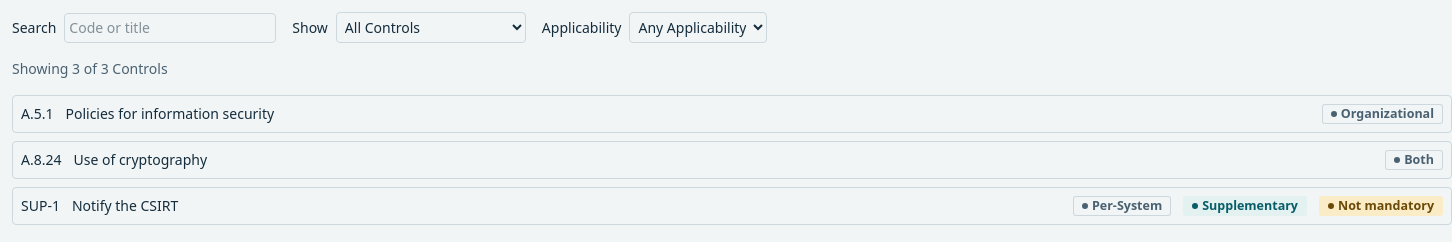
Test case: ControlLibrary (#169) › filters by origin and by Applicability
Select "Supplementary Controls" in the dropdown named "Origin filter": (431, 28) [336,12,526,43]
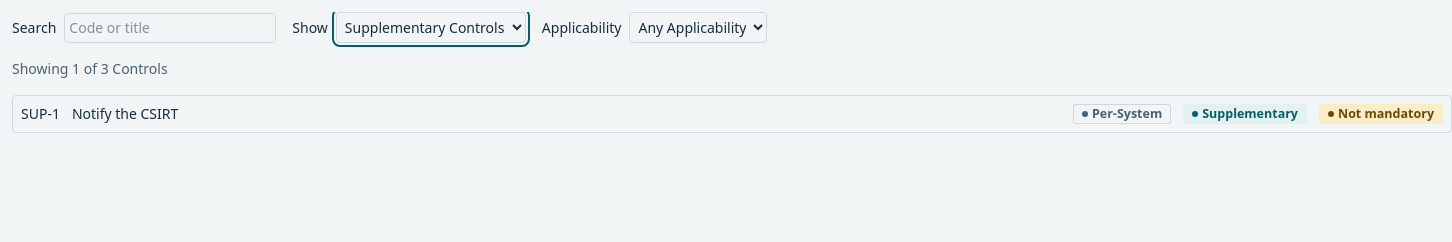
Expected: the text "Notify the CSIRT" is shown, [72,104,178,123]
Now the text "Showing 1 of 3 Controls" is shown, box [12,59,168,78]
Select "Base Controls" in the dropdown named "Origin filter": (431, 28) [336,12,526,43]
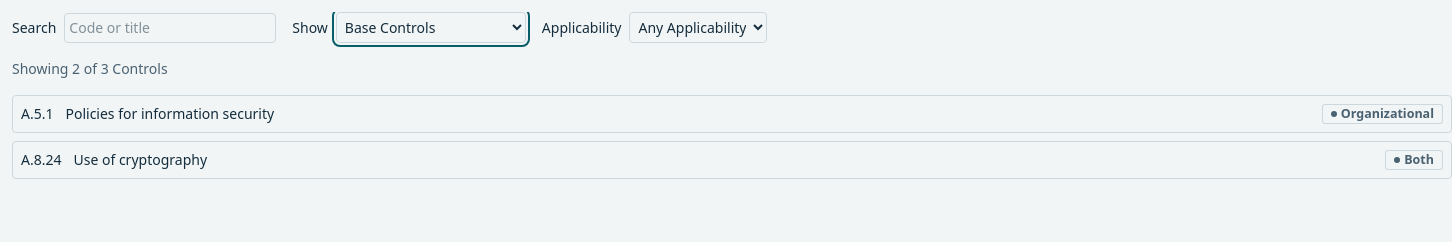
Now the text "Showing 2 of 3 Controls" is shown, box [12,59,168,78]
Select "Both" in the dropdown named "Applicability filter": (698, 28) [630,12,768,43]
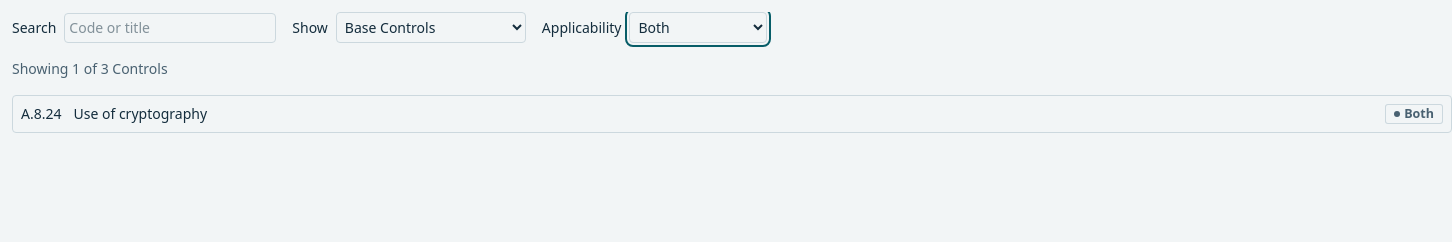
Now the text "Use of cryptography" is shown, box [74,104,207,123]
Now the text "Showing 1 of 3 Controls" is shown, box [12,59,168,78]
In the search field named "Search Controls": (170, 28) [64,12,276,42], type "zzz"
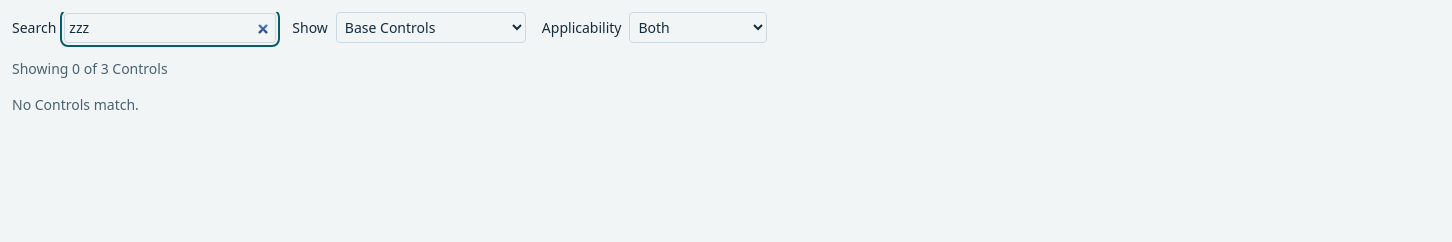
Now the text "No Controls match." is shown, box [12,95,139,114]
